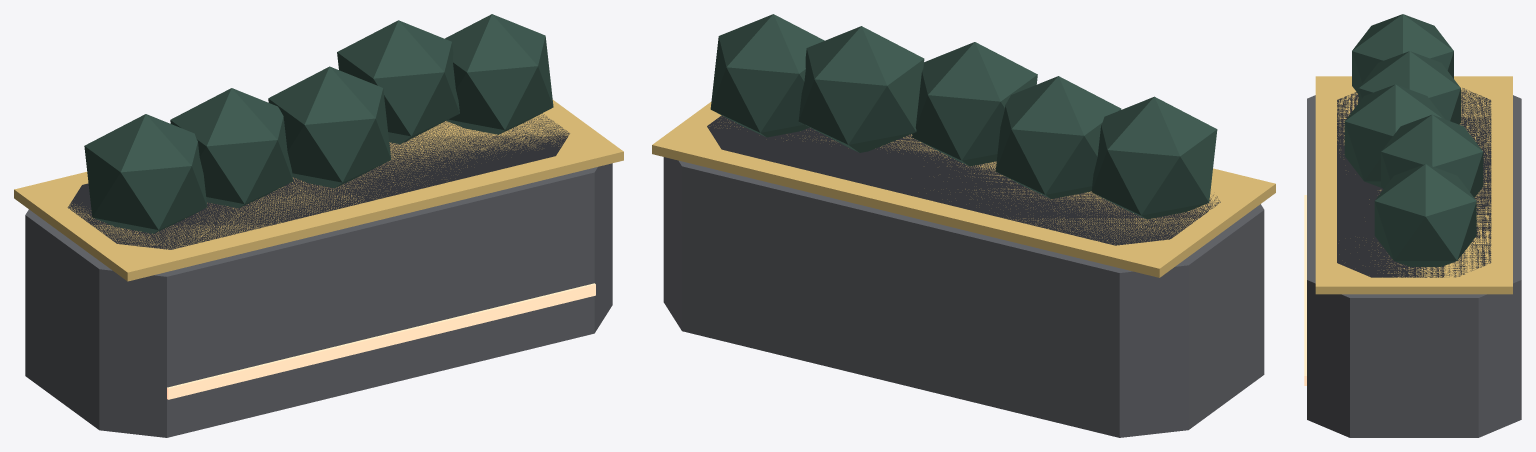
The model's file is Prop_Aegis_Planter.fbx.
The picture shows the model from 3 angles, left to right: view 1: azimuth 30°, elevation 25°; view 2: azimuth 150°, elevation 25°; view 3: azimuth 270°, elevation 25°; orthographic projection. The views are drawn at different scales.
Visible parts, largest first — view 1: PPL_Box, PPL_Rim, PPL_Soil, PPL_Hedge0, PPL_Hedge2, PPL_Hedge4, PPL_Hedge1, PPL_Hedge3, PPL_Light; view 2: PPL_Box, PPL_Rim, PPL_Soil, PPL_Hedge3, PPL_Hedge0, PPL_Hedge1, PPL_Hedge2, PPL_Hedge4; view 3: PPL_Box, PPL_Rim, PPL_Soil, PPL_Hedge4, PPL_Hedge3, PPL_Hedge2, PPL_Hedge0, PPL_Hedge1, PPL_Light.
Part boxes in pixels (box(x1,y1,x2,y2)): PPL_Box: box(25, 163, 612, 437); PPL_Rim: box(14, 100, 623, 281); PPL_Soil: box(67, 113, 569, 249); PPL_Hedge0: box(84, 114, 207, 233); PPL_Hedge2: box(268, 66, 391, 188); PPL_Hedge4: box(445, 14, 553, 134); PPL_Hedge1: box(170, 88, 292, 208); PPL_Hedge3: box(337, 20, 459, 144); PPL_Light: box(167, 283, 595, 399); PPL_Box: box(663, 157, 1264, 437); PPL_Rim: box(652, 102, 1275, 277); PPL_Soil: box(707, 115, 1220, 245); PPL_Hedge3: box(798, 26, 924, 152); PPL_Hedge0: box(1091, 96, 1217, 219); PPL_Hedge1: box(995, 76, 1121, 198); PPL_Hedge2: box(912, 42, 1037, 166); PPL_Hedge4: box(710, 14, 824, 137); PPL_Box: box(1307, 95, 1521, 437); PPL_Rim: box(1315, 76, 1512, 294); PPL_Soil: box(1337, 87, 1491, 277); PPL_Hedge4: box(1374, 164, 1476, 266); PPL_Hedge3: box(1381, 114, 1483, 197); PPL_Hedge2: box(1344, 84, 1444, 187); PPL_Hedge0: box(1352, 14, 1453, 93); PPL_Hedge1: box(1358, 51, 1460, 124); PPL_Light: box(1304, 195, 1306, 385).
Bounding box in the file's own units: 1.2 × 0.65 × 0.506.
